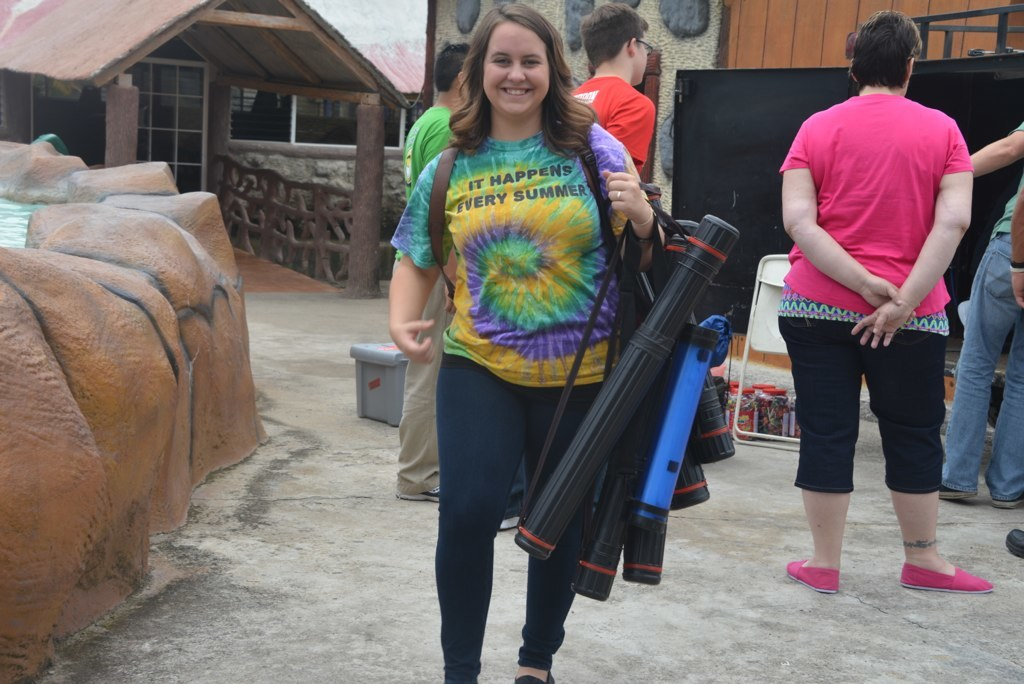Footwear: (901, 521, 971, 607), (787, 556, 839, 595), (939, 483, 977, 503), (1005, 528, 1023, 559), (992, 495, 1023, 510)
